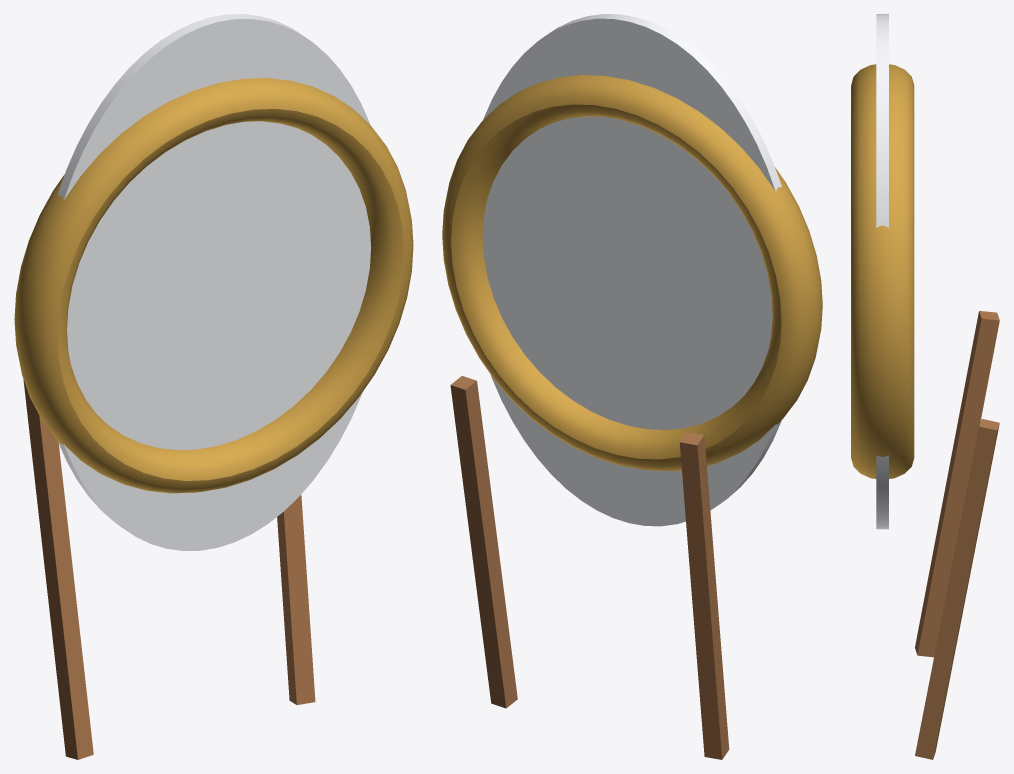
The model's file is mirror.glb.
3 renders of one model, left to right at view 1: azimuth 30°, elevation 25°; view 2: azimuth 150°, elevation 25°; view 3: azimuth 270°, elevation 25°, orthographic. The views are drawn at different scales.
Visible parts, largest first — view 1: glass, frame.001, legL.001, legR.001; view 2: glass, frame.001, legR.001, legL.001; view 3: frame.001, legL.001, legR.001, glass.
Boxes of the visible parts, <box> form: glass: <box>57,14,370,550</box>; frame.001: <box>14,78,413,493</box>; legL.001: <box>23,379,93,759</box>; legR.001: <box>277,494,315,704</box>; glass: <box>482,14,781,526</box>; frame.001: <box>442,75,822,471</box>; legR.001: <box>450,376,517,708</box>; legL.001: <box>679,432,729,759</box>; frame.001: <box>851,64,914,478</box>; legL.001: <box>915,311,999,657</box>; legR.001: <box>915,419,999,759</box>; glass: <box>876,14,888,529</box>.
Bounding box in the file's own units: 0.67 × 1.2 × 0.2391.
